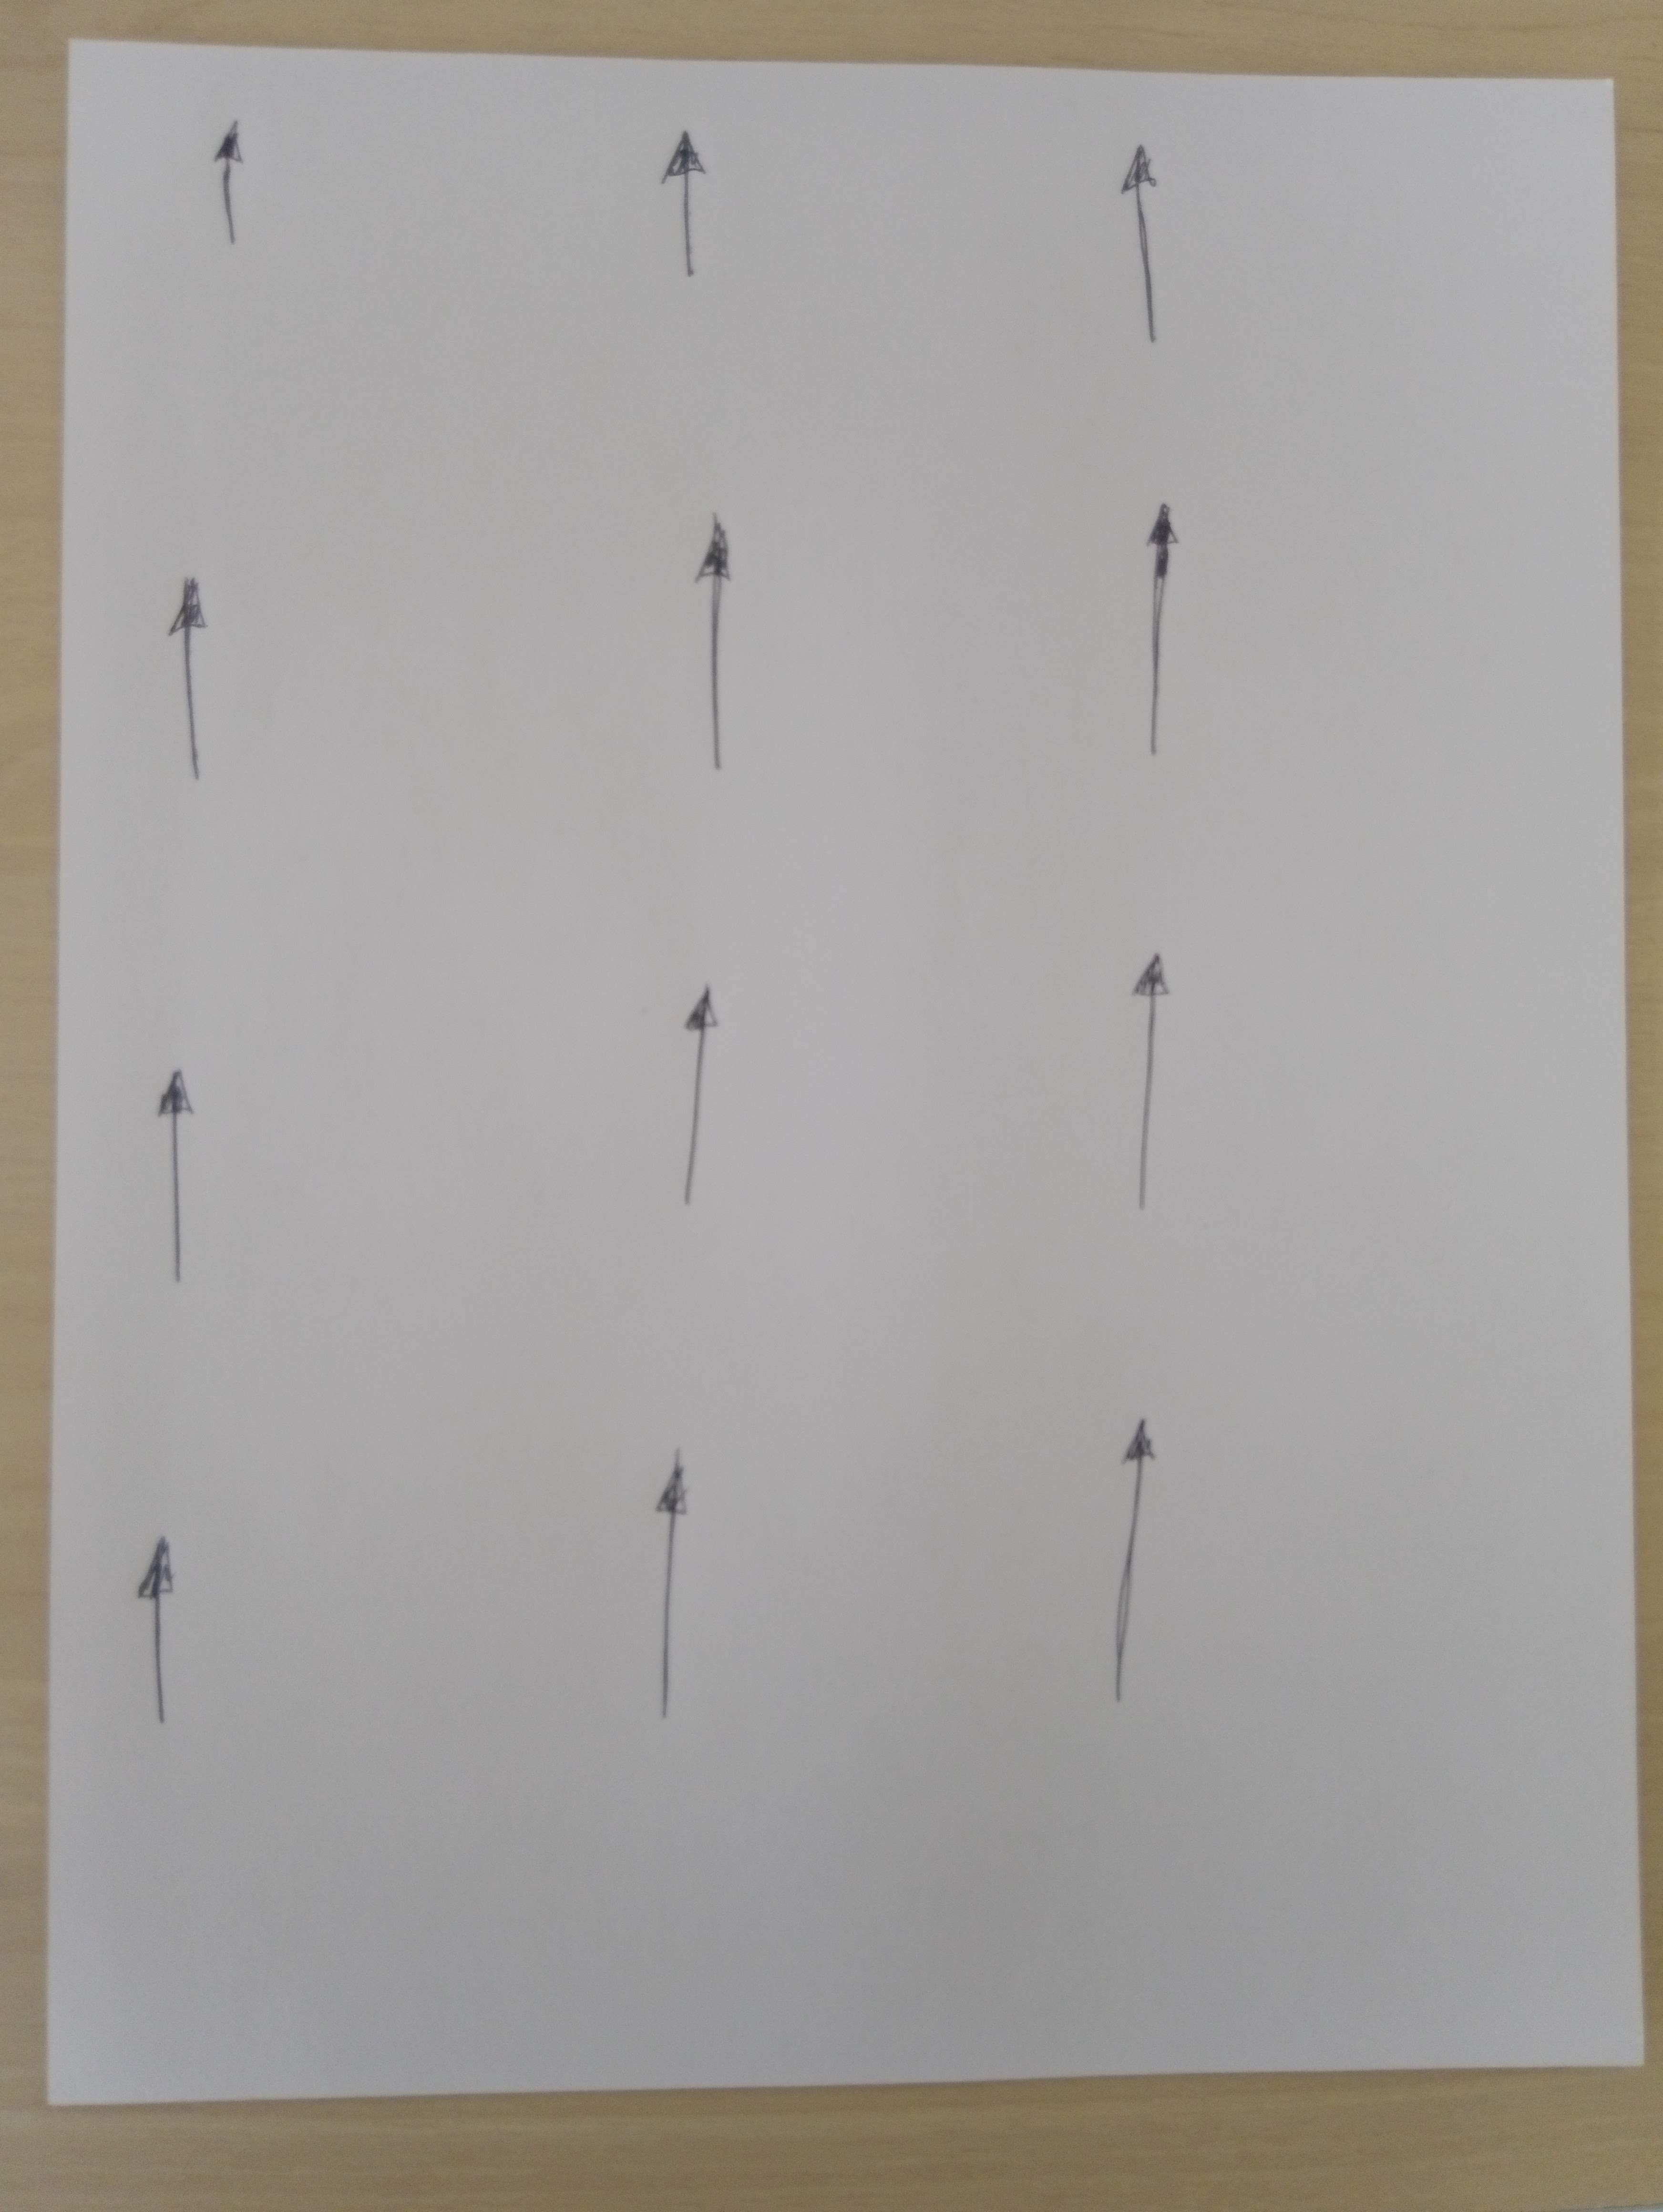arrow_line_up: (1106, 946, 1195, 1240), (664, 515, 760, 782), (1125, 499, 1218, 772), (1097, 133, 1202, 360), (1106, 1421, 1183, 1716), (664, 985, 749, 1229), (636, 1456, 709, 1739), (152, 1065, 220, 1341), (152, 578, 238, 784), (115, 1535, 187, 1739), (648, 124, 728, 306), (197, 120, 264, 241)
